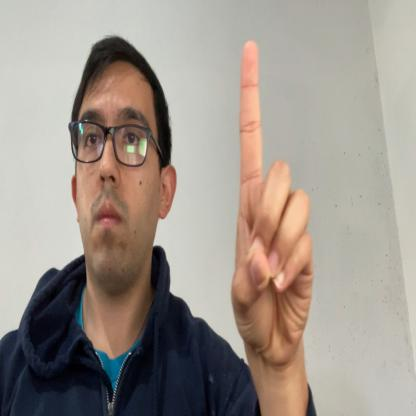D: (231, 39, 313, 374)
